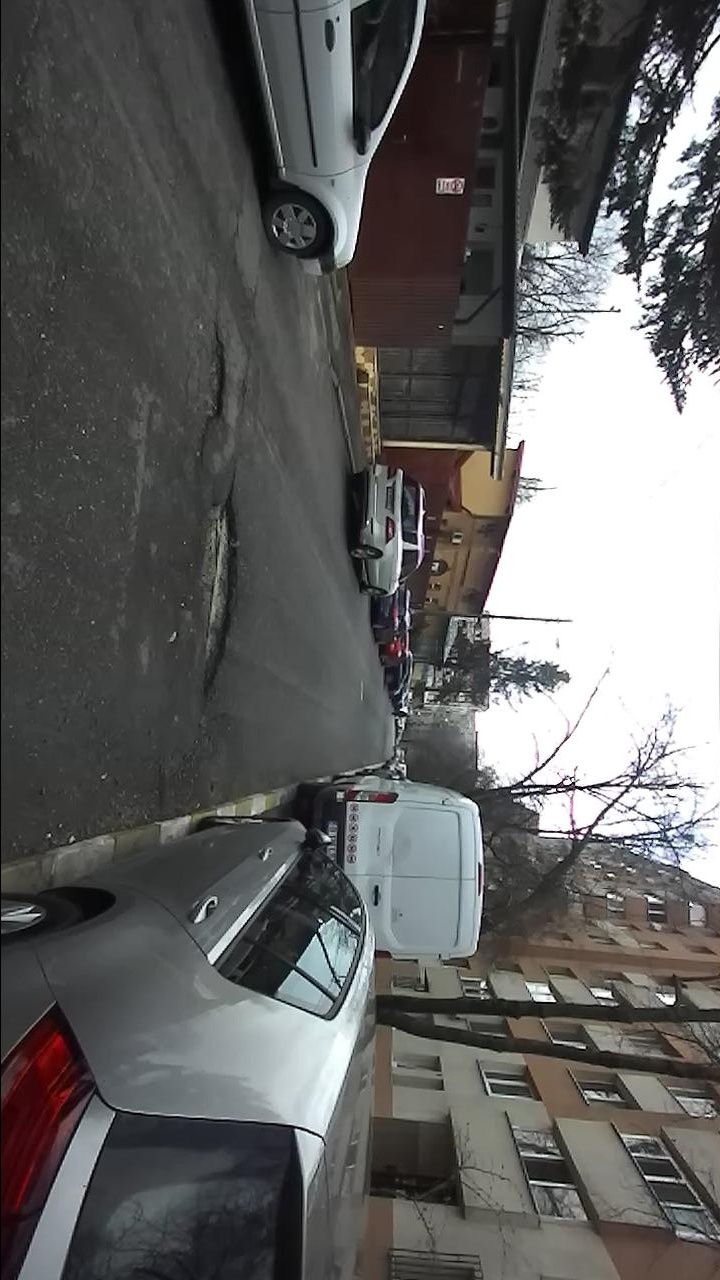pothole: (183, 465, 242, 710), (192, 322, 230, 461)
